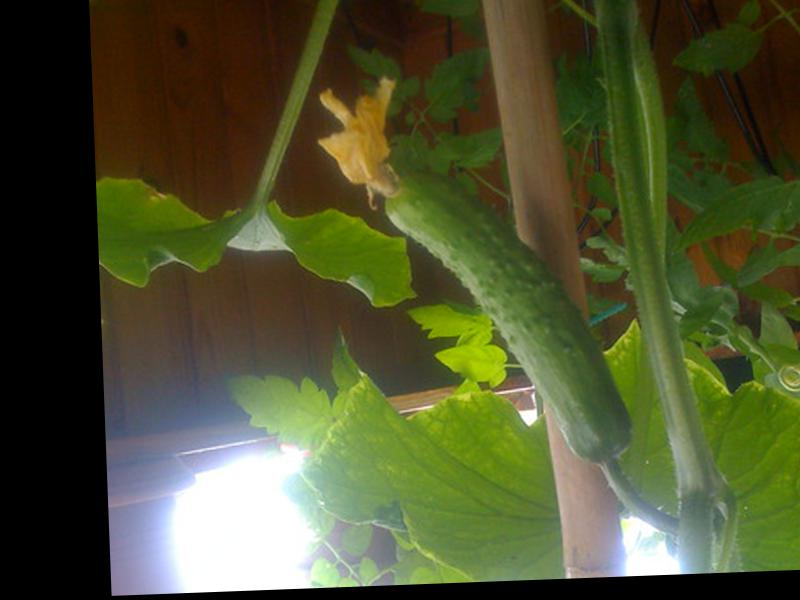Cucumber: (312, 67, 631, 471)
